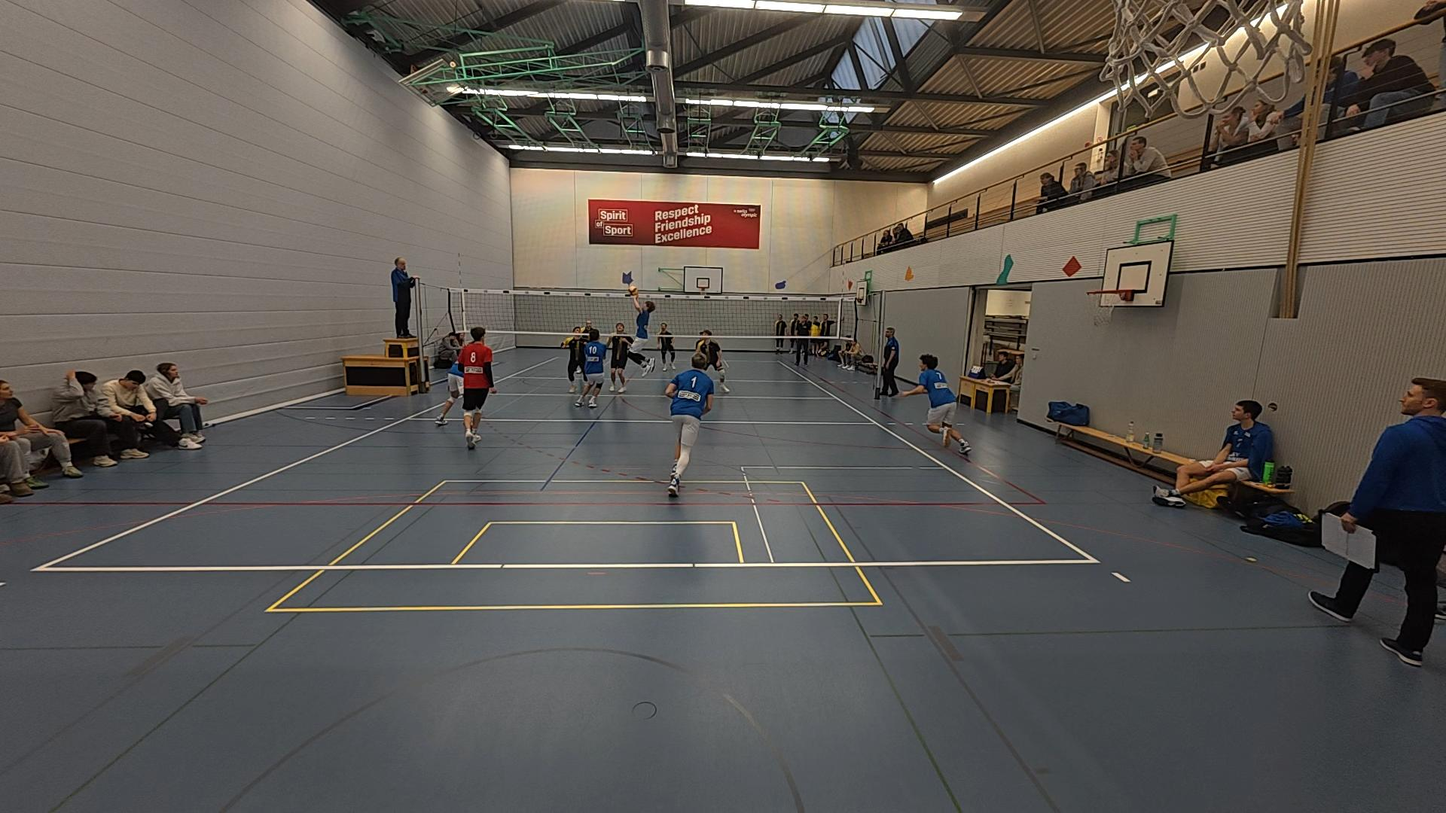alzata: (624, 278, 660, 374)
